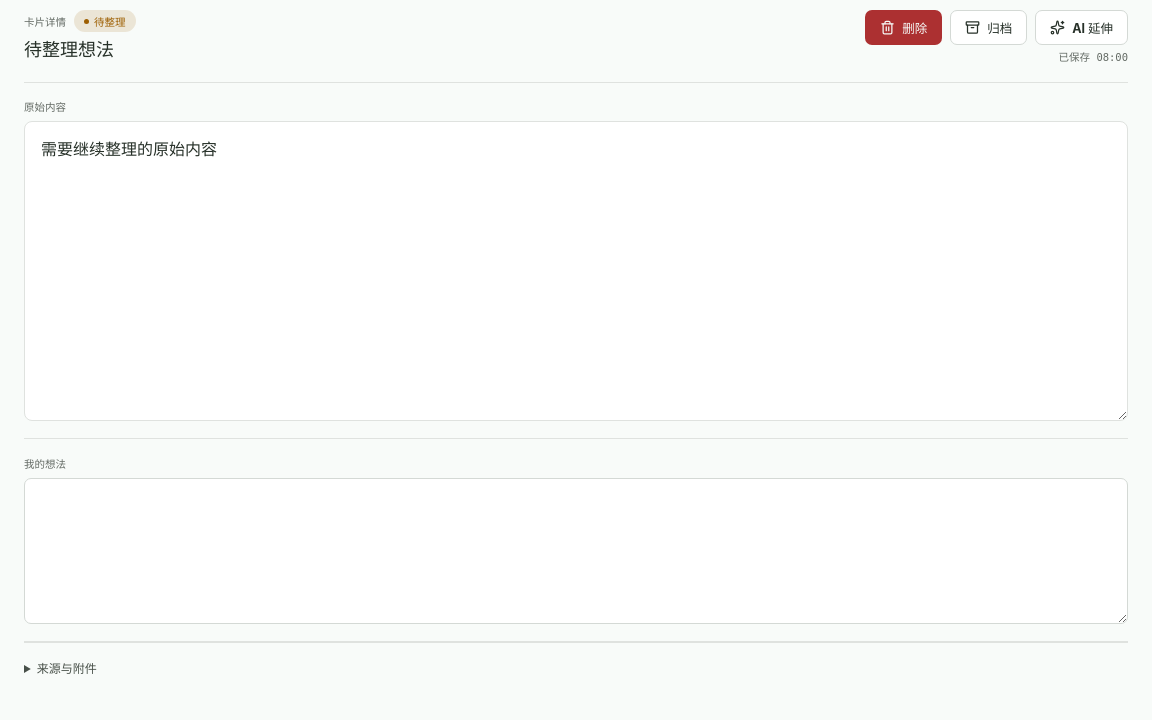
CardDetail › keeps per-question web search disabled when the global setting is off
(page scrolled)
Click the button "AI 延伸" at (1082, 28), box [1035,10,1128,45]
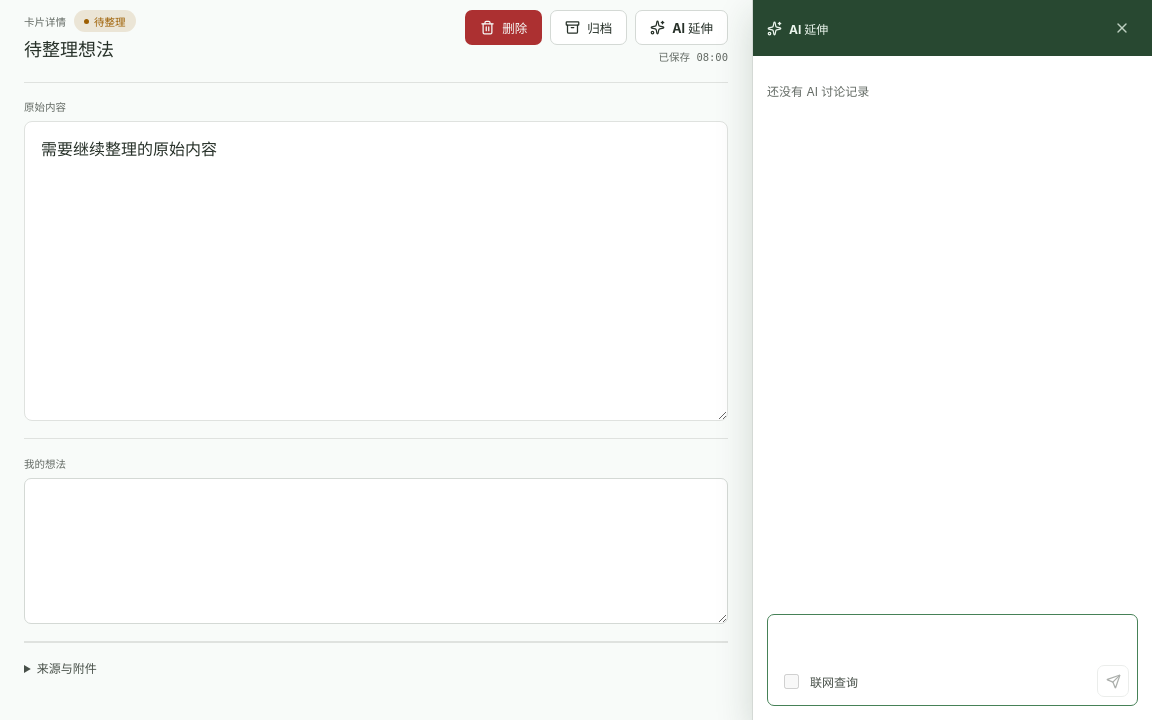
Expected: the checkbox labelled "联网查询" is disabled, [784,674,799,688]
